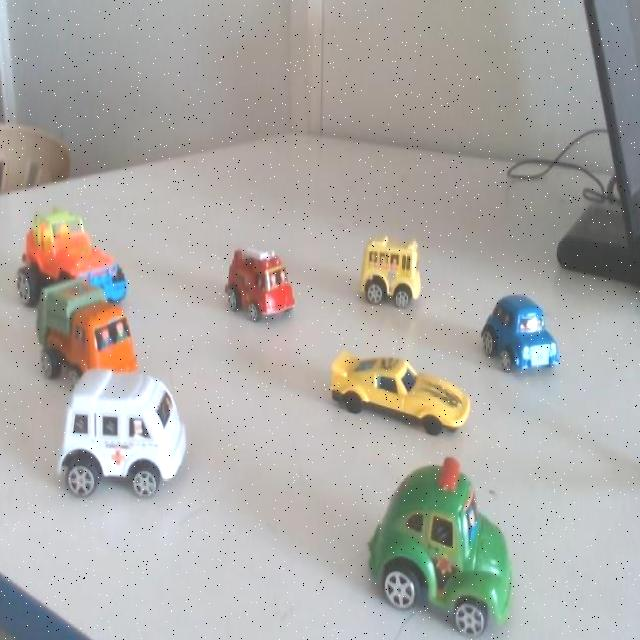car: (69, 346, 214, 524), (395, 469, 521, 622), (344, 339, 464, 448), (51, 203, 136, 310), (49, 271, 118, 389), (224, 234, 298, 342), (352, 228, 436, 323), (493, 292, 562, 381)
